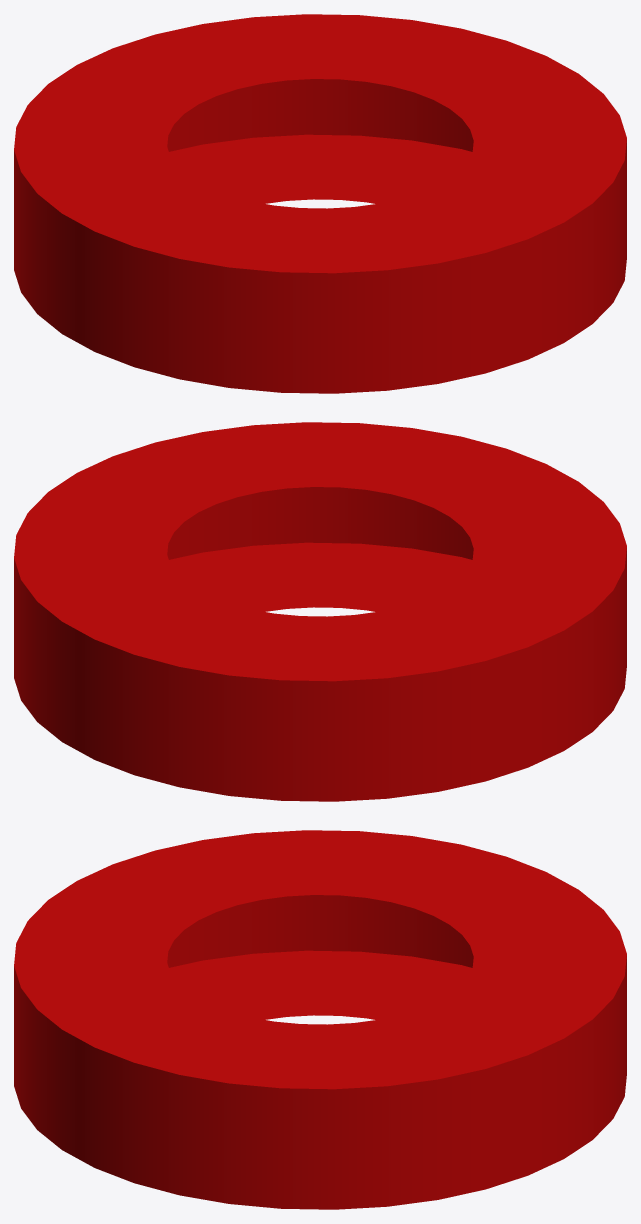
Rendered from original-23.obj.
The picture shows the model from 3 angles, top to bottom: view 1: azimuth 30°, elevation 25°; view 2: azimuth 150°, elevation 25°; view 3: azimuth 270°, elevation 25°; orthographic projection.
Parts seen in each view (by area): view 1: #ID99; view 2: #ID99; view 3: #ID99.
Boxes of the visible parts, box(x1,y1,x2,y2) form: #ID99: box(14, 14, 626, 393); #ID99: box(14, 422, 626, 801); #ID99: box(14, 830, 626, 1209).
Bounding box in the file's own units: 0.0929 × 0.0201 × 0.0929.
